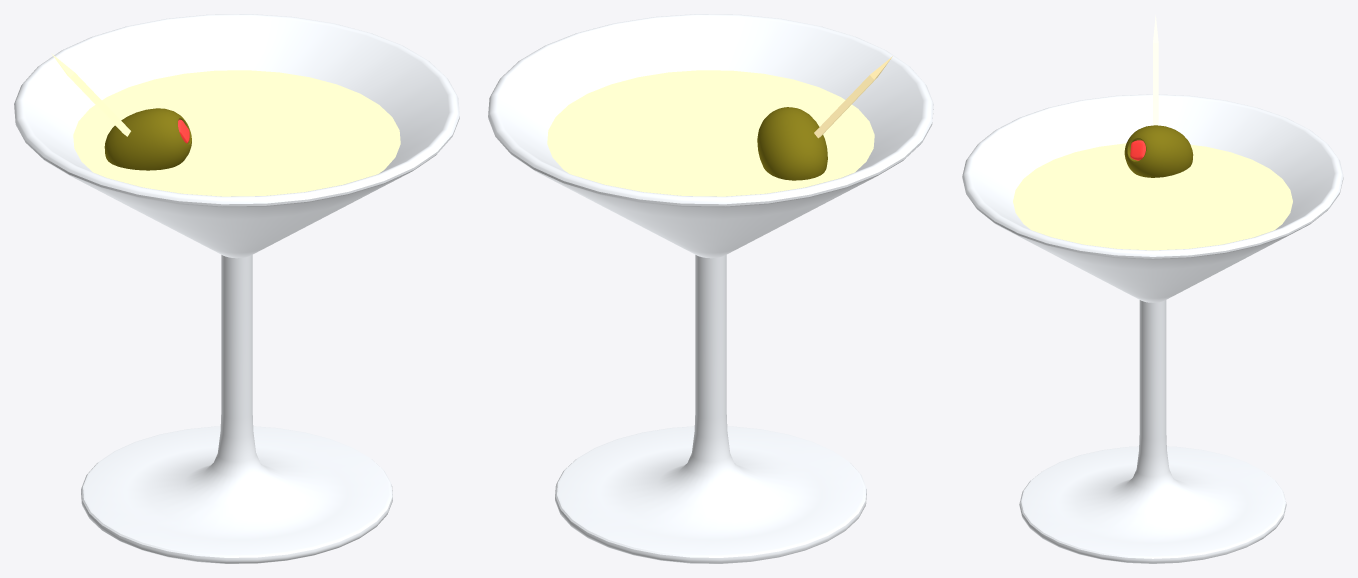
File: cocktail_glass.gltf
3 renders of one model, left to right at view 1: azimuth 30°, elevation 25°; view 2: azimuth 150°, elevation 25°; view 3: azimuth 270°, elevation 25°, orthographic. The views are drawn at different scales.
Parts seen in each view (by area): view 1: Circle.2278; view 2: Circle.2278; view 3: Circle.2278.
Part boxes in pixels (left/top/right/bottom): Circle.2278: left=14, top=14, right=459, bottom=563; Circle.2278: left=488, top=14, right=933, bottom=563; Circle.2278: left=962, top=15, right=1343, bottom=563.
Bounding box in the file's own units: 1.77 × 2.15 × 1.77.
2 materials, 1 textured.
